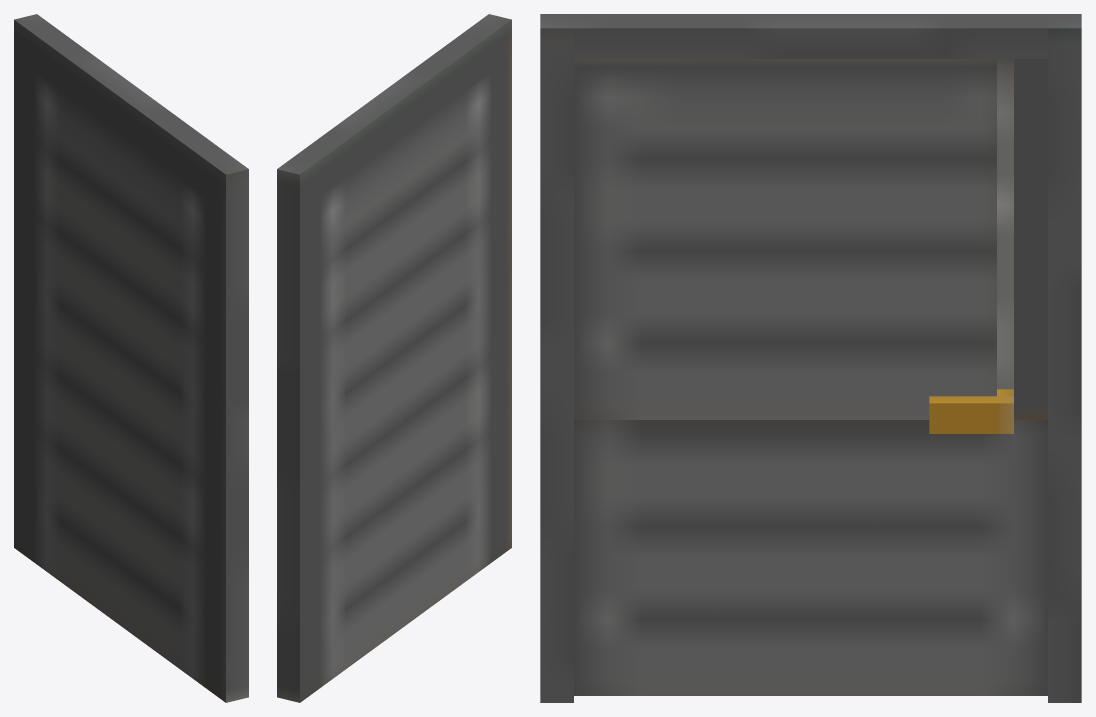
The model's file is DoorGrey_01.fbx.
3 views of the same model, side by side, from view 1: azimuth 30°, elevation 25°; view 2: azimuth 150°, elevation 25°; view 3: azimuth 270°, elevation 25° (orthographic). The views are drawn at different scales.
Parts seen in each view (by area): view 1: DoorGrey_01; view 2: DoorGrey_01; view 3: DoorGrey_01.
Part boxes in pixels (x1,y1,x2,y2): DoorGrey_01: (14,14,248,702); DoorGrey_01: (277,14,511,702); DoorGrey_01: (540,14,1081,702).
Size of the model in its own units: 15 by 160 by 220.
1 material, 1 textured.
